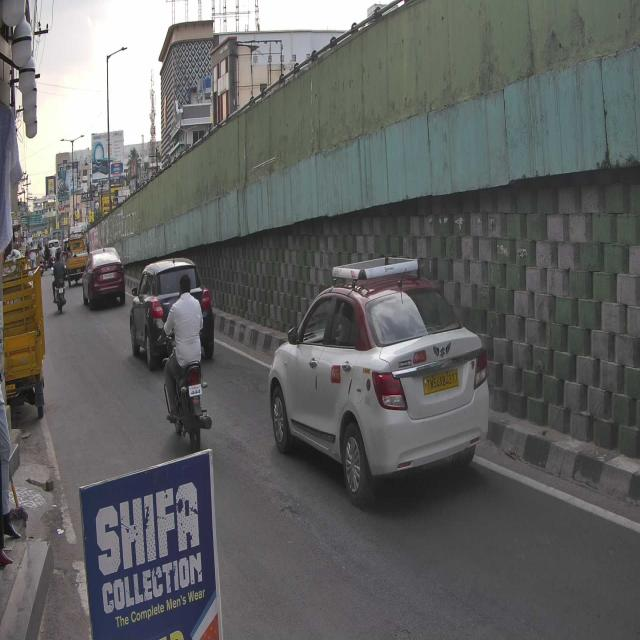single_rider: (156, 270, 213, 453)
